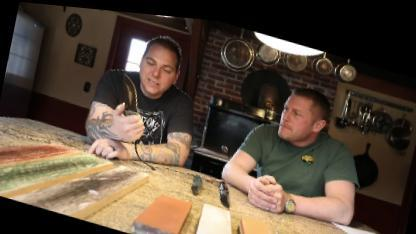knife: (109, 64, 158, 128)
